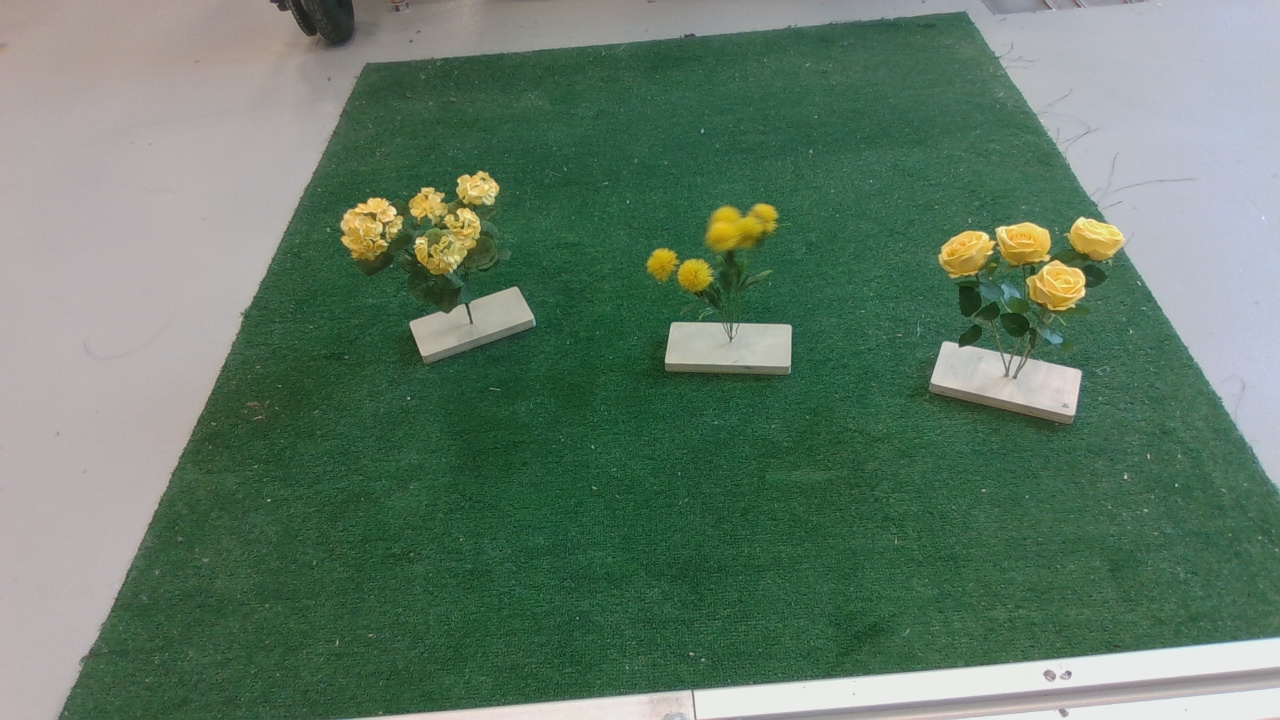dandelion: (642, 193, 799, 322)
geranium: (342, 165, 520, 321)
rose: (946, 208, 1136, 355)
